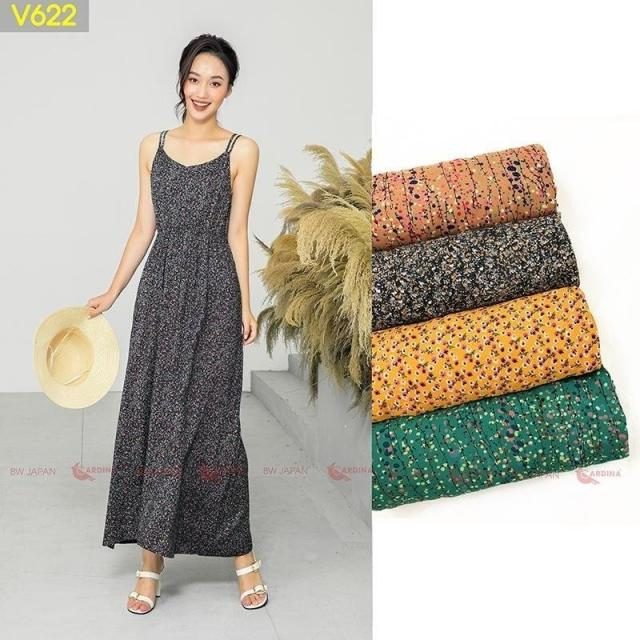clothes: (108, 128, 272, 568)
